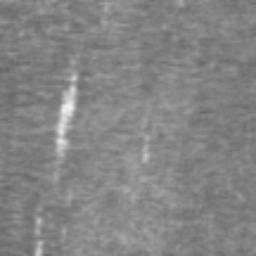White rust: (55, 85, 77, 157), (36, 242, 43, 256), (143, 152, 149, 162)
